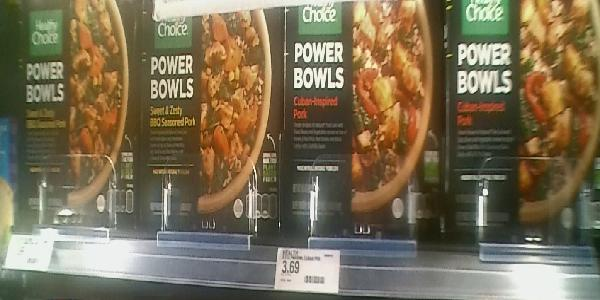pizza1: (283, 1, 443, 241), (444, 1, 600, 238), (143, 2, 284, 234), (16, 1, 141, 227)
